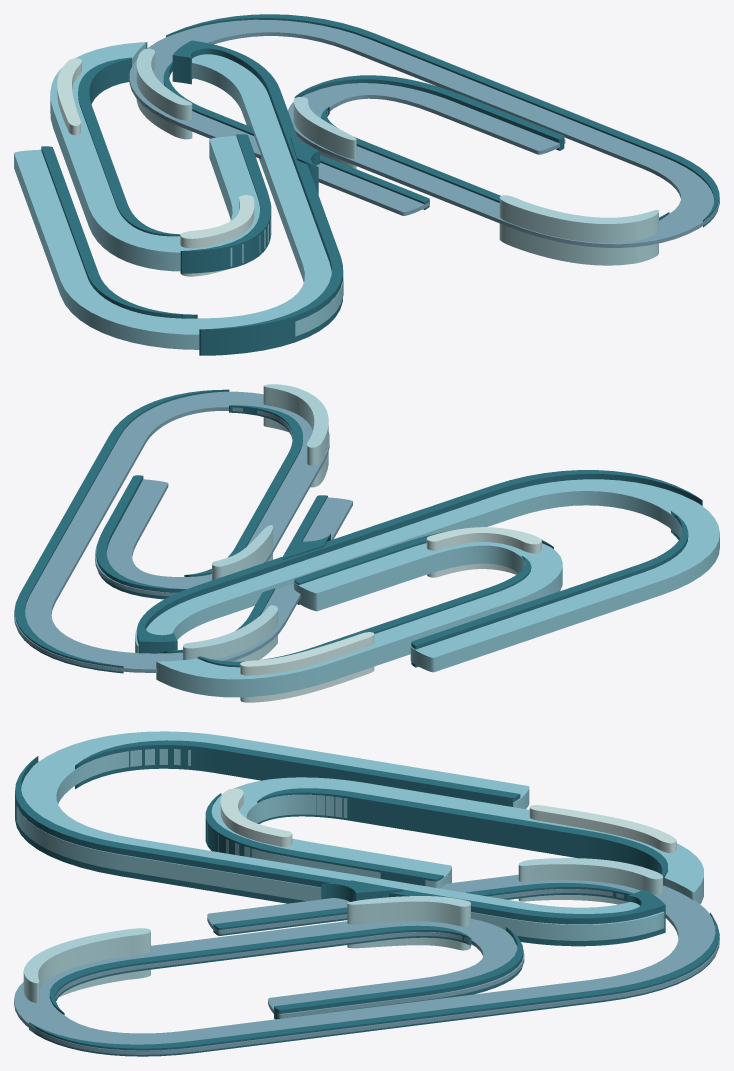
Rendered from emoji_u1f587.glb.
3 renders of one model, top to bottom at view 1: azimuth 30°, elevation 25°; view 2: azimuth 150°, elevation 25°; view 3: azimuth 270°, elevation 25°, orthographic. The views are drawn at different scales.
Parts seen in each view (by area): view 1: emoji_u1f587; view 2: emoji_u1f587; view 3: emoji_u1f587.
Boxes of the visible parts, x1=… form: emoji_u1f587: x1=14, y1=14, x2=719, y2=355; emoji_u1f587: x1=14, y1=384, x2=719, y2=702; emoji_u1f587: x1=14, y1=731, x2=719, y2=1056.
Size of the model in its own units: 0.0339 by 0.0022 by 0.0322.
